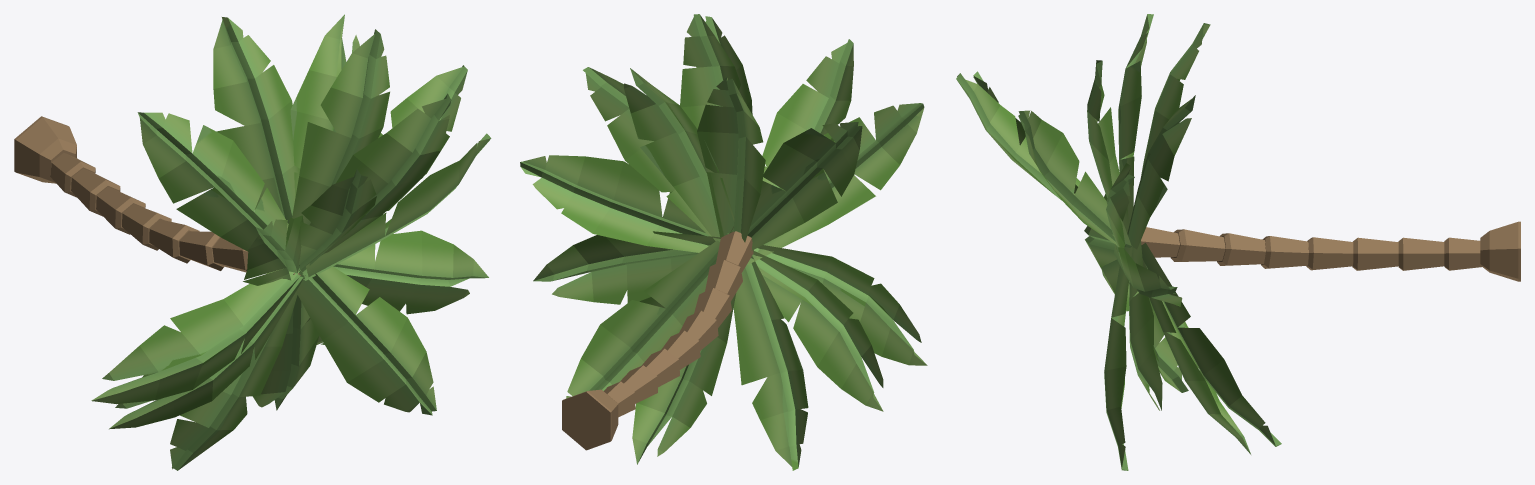
File: PalmTreeLowPoly.glb
3 views of the same model, side by side, from view 1: azimuth 30°, elevation 25°; view 2: azimuth 150°, elevation 25°; view 3: azimuth 270°, elevation 25° (orthographic). The views are drawn at different scales.
Visible parts, largest first — view 1: Plane.022, Plane.019, Plane.029, Plane.020, Plane.025, Plane.023, Cylinder.001, Plane.026, Plane.016, Plane.031, Plane.027, Plane.030 (+5 smaller); view 2: Plane.031, Plane.016, Plane.018, Plane.019, Plane.030, Plane.020, Plane.023, Cylinder.001, Plane.021, Plane.029, Plane.028, Plane.017 (+5 smaller); view 3: Cylinder.001, Plane.026, Plane.018, Plane.021, Plane.022, Plane.027, Plane.019, Plane.023, Plane.017, Plane.025, Cylinder, Plane.020 (+4 smaller).
Boxes of the visible parts, x1,y1,x2,y2 form: Plane.022: (296,266,436,415); Plane.019: (137,112,299,270); Plane.029: (91,270,300,404); Plane.020: (213,17,300,223); Plane.025: (292,29,389,224); Plane.023: (333,230,488,314); Cylinder.001: (50,153,300,275); Plane.026: (299,93,451,273); Plane.016: (170,273,300,470); Plane.031: (303,133,491,280); Plane.027: (285,169,376,270); Plane.030: (109,270,303,429); Plane.031: (520,155,708,252); Plane.016: (733,256,808,470); Plane.018: (566,240,719,398); Plane.019: (730,122,862,250); Plane.030: (753,250,883,411); Plane.020: (697,77,765,242); Plane.023: (533,231,721,304); Cylinder.001: (604,231,753,417); Plane.021: (624,68,734,241); Plane.029: (754,245,927,365); Plane.028: (747,103,924,264); Plane.017: (632,293,736,464); Cylinder.001: (1141,227,1482,270); Plane.026: (1018,110,1117,245); Plane.018: (1141,243,1281,446); Plane.021: (1125,95,1195,249); Plane.022: (1104,246,1132,470); Plane.027: (956,73,1113,236); Plane.019: (1118,14,1153,224); Plane.023: (1129,241,1162,410); Plane.017: (1142,259,1250,454); Plane.025: (1087,60,1131,245); Cylinder: (1480,221,1520,281); Plane.020: (1140,23,1210,178).
Size of the model in its own units: 3.89 by 3.81 by 4.84.
Materials: 2 (1 with a texture image).
